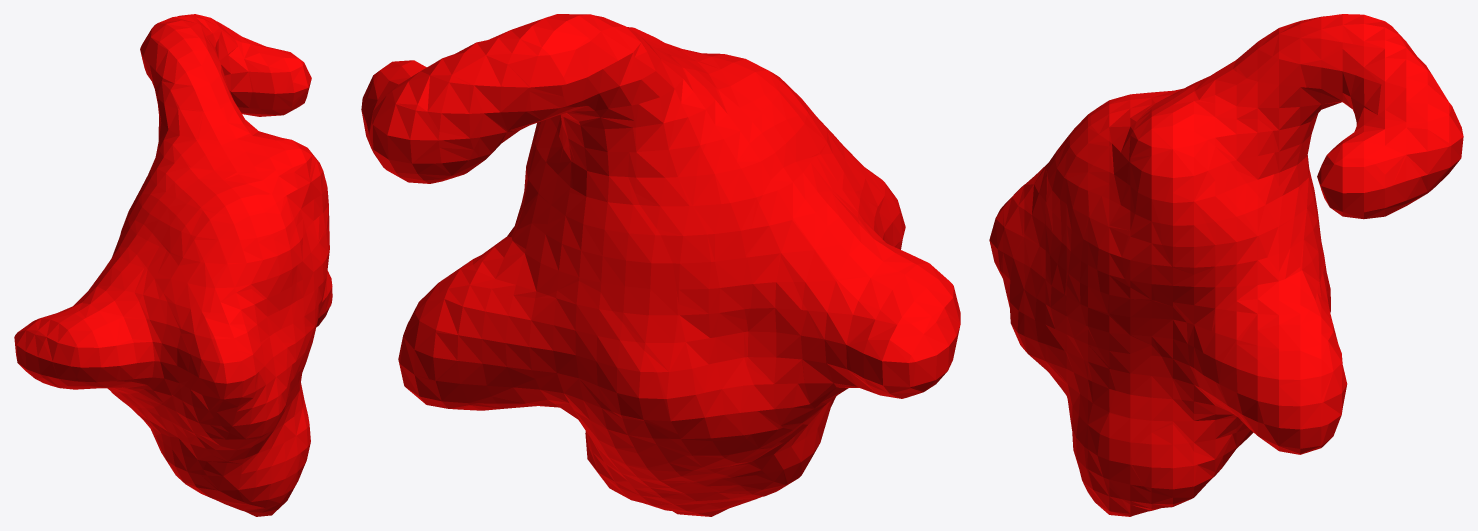
File: erpA_coarse.dae
3 renders of one model, left to right at view 1: azimuth 30°, elevation 25°; view 2: azimuth 150°, elevation 25°; view 3: azimuth 270°, elevation 25°, orthographic. The views are drawn at different scales.
Visible parts, largest first — view 1: erpA; view 2: erpA; view 3: erpA.
Part boxes in pixels (<box>): erpA: <box>14,14,332,516</box>; erpA: <box>361,14,960,516</box>; erpA: <box>989,14,1463,516</box>.
Size of the model in its own units: 45.52 by 52.07 by 44.49.
